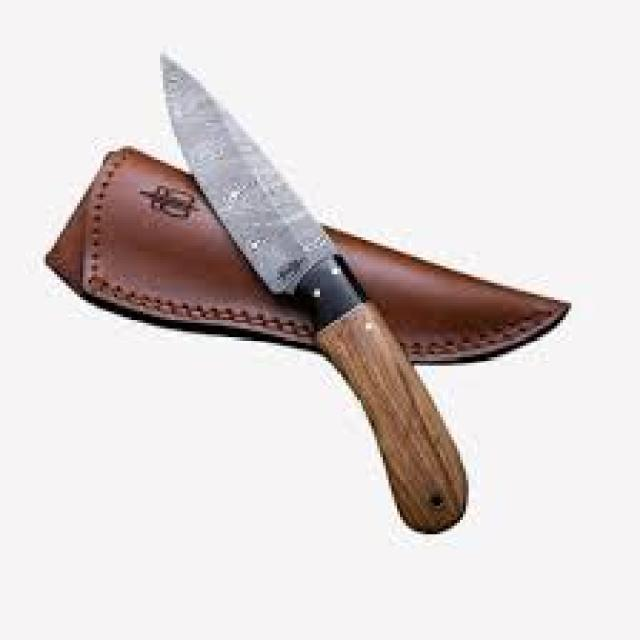knives: (152, 46, 474, 540)
